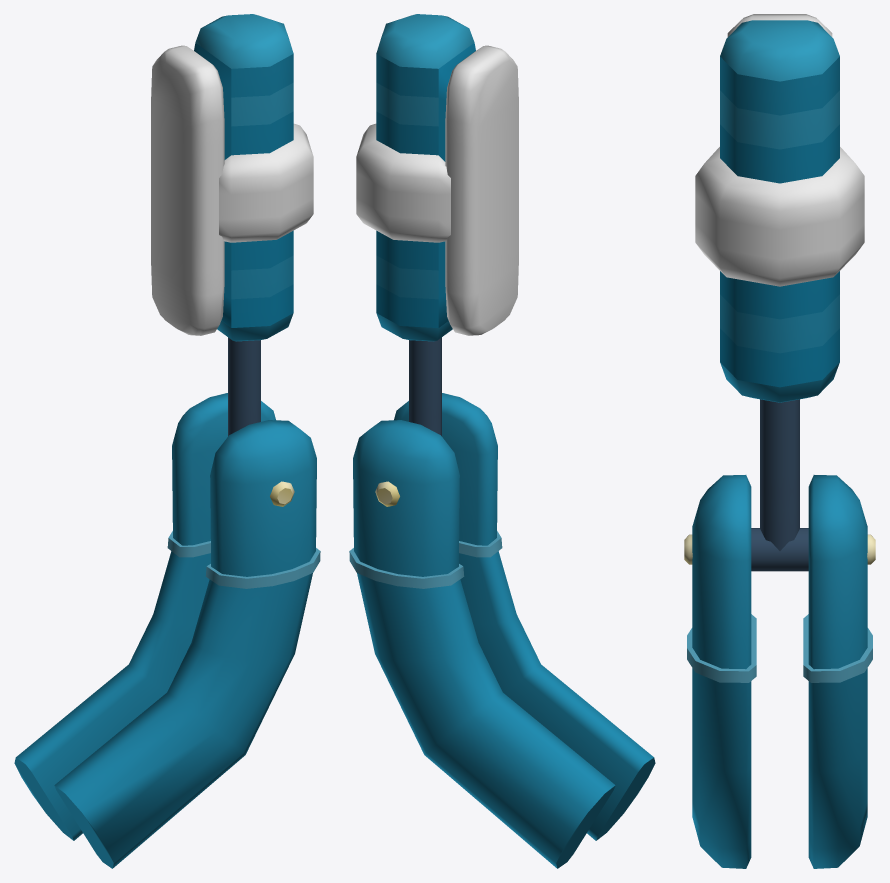
The model's file is Obstacle-15.fbx.
The picture shows the model from 3 angles, left to right: view 1: azimuth 30°, elevation 25°; view 2: azimuth 150°, elevation 25°; view 3: azimuth 270°, elevation 25°; orthographic projection. The views are drawn at different scales.
Parts seen in each view (by area): view 1: Obs-15, Obs-15-D; view 2: Obs-15, Obs-15-D; view 3: Obs-15-D, Obs-15.
Part boxes in pixels (x1,y1,x2,y2): Obs-15: (14, 393, 320, 868); Obs-15-D: (151, 14, 313, 436); Obs-15: (349, 393, 655, 868); Obs-15-D: (356, 14, 518, 436); Obs-15-D: (695, 14, 864, 571); Obs-15: (684, 475, 875, 868).
Size of the model in its own units: 3.48 by 9.8 by 1.83.
